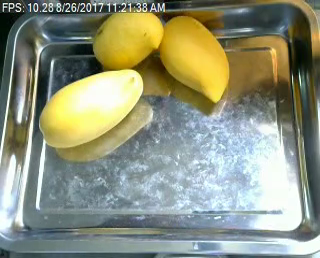Mango: (39, 68, 142, 146), (158, 13, 230, 103), (94, 8, 163, 66)
